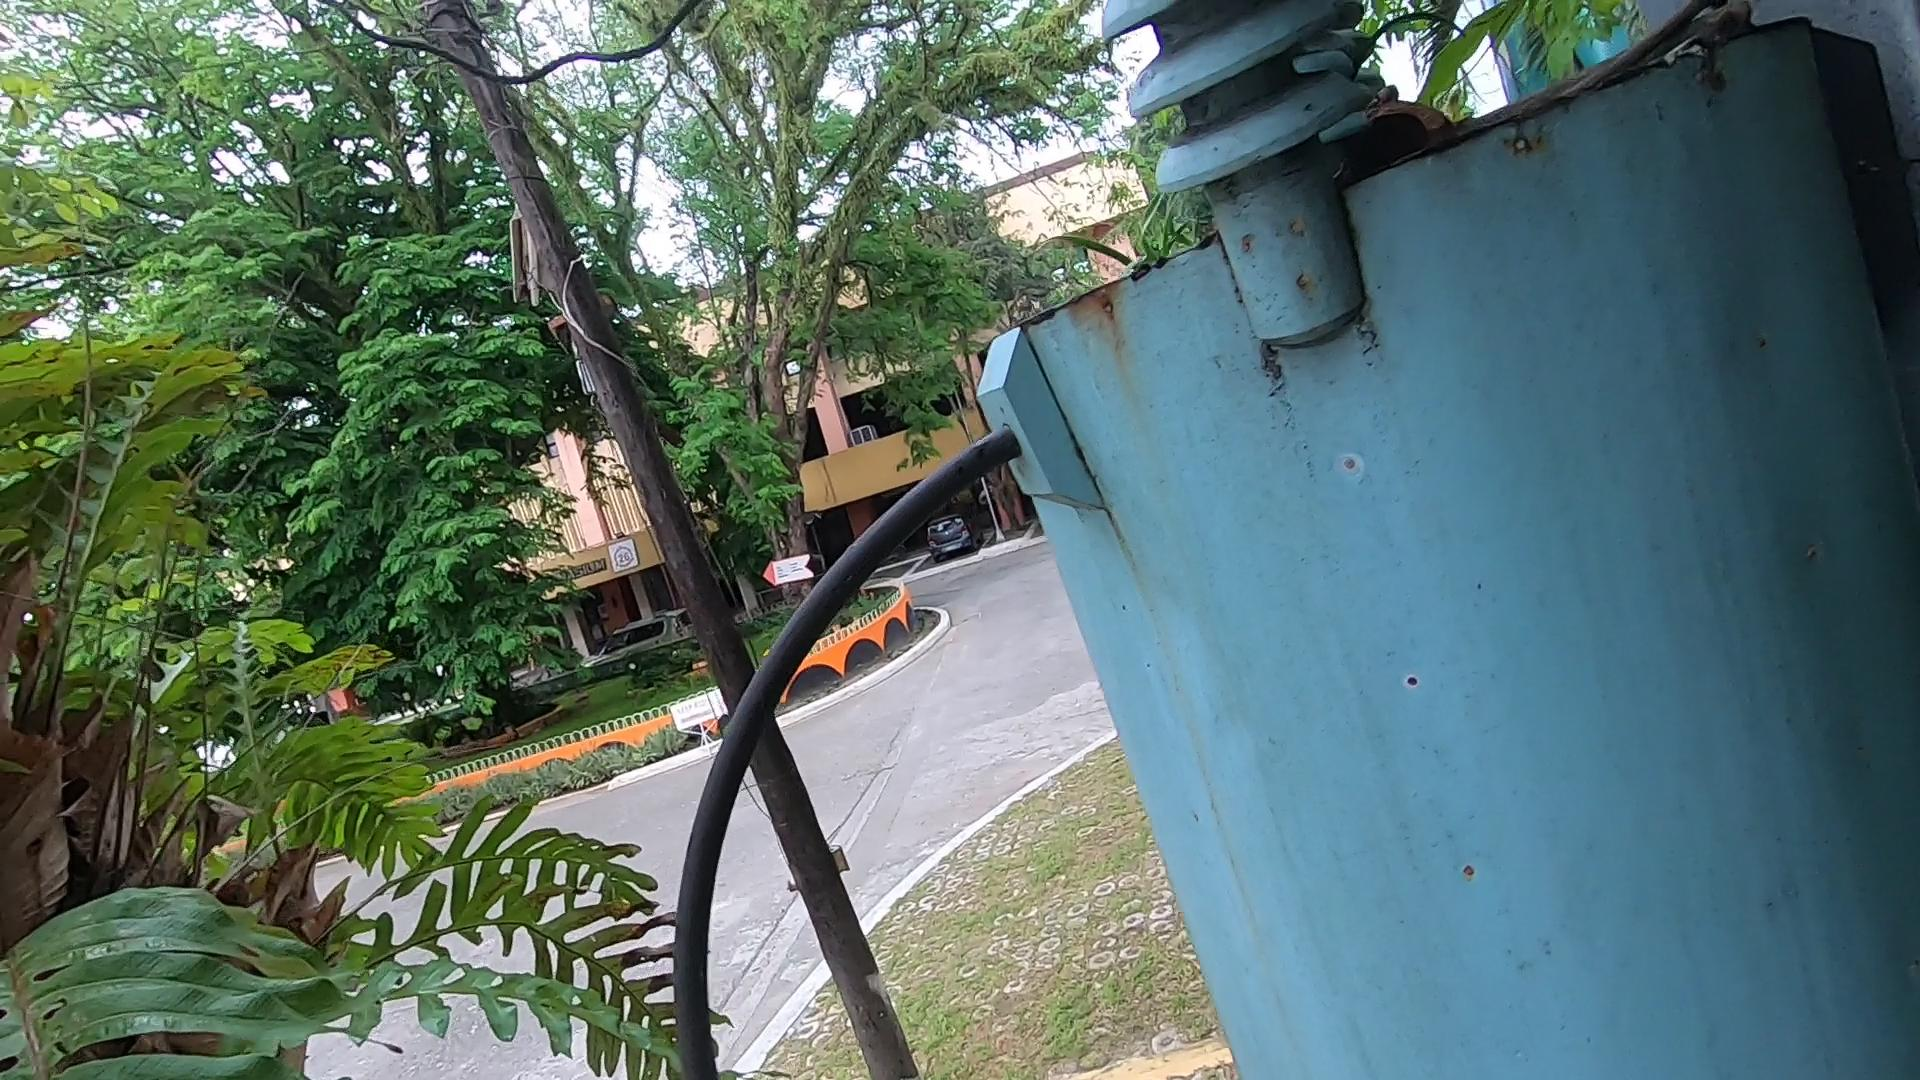mahogany fruit: (1354, 92, 1478, 193)
tree branch: (1468, 1, 1788, 142)
